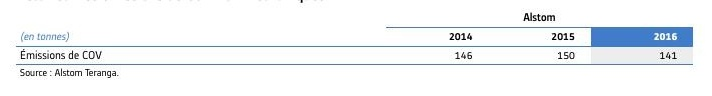table: (0, 0, 712, 96)
